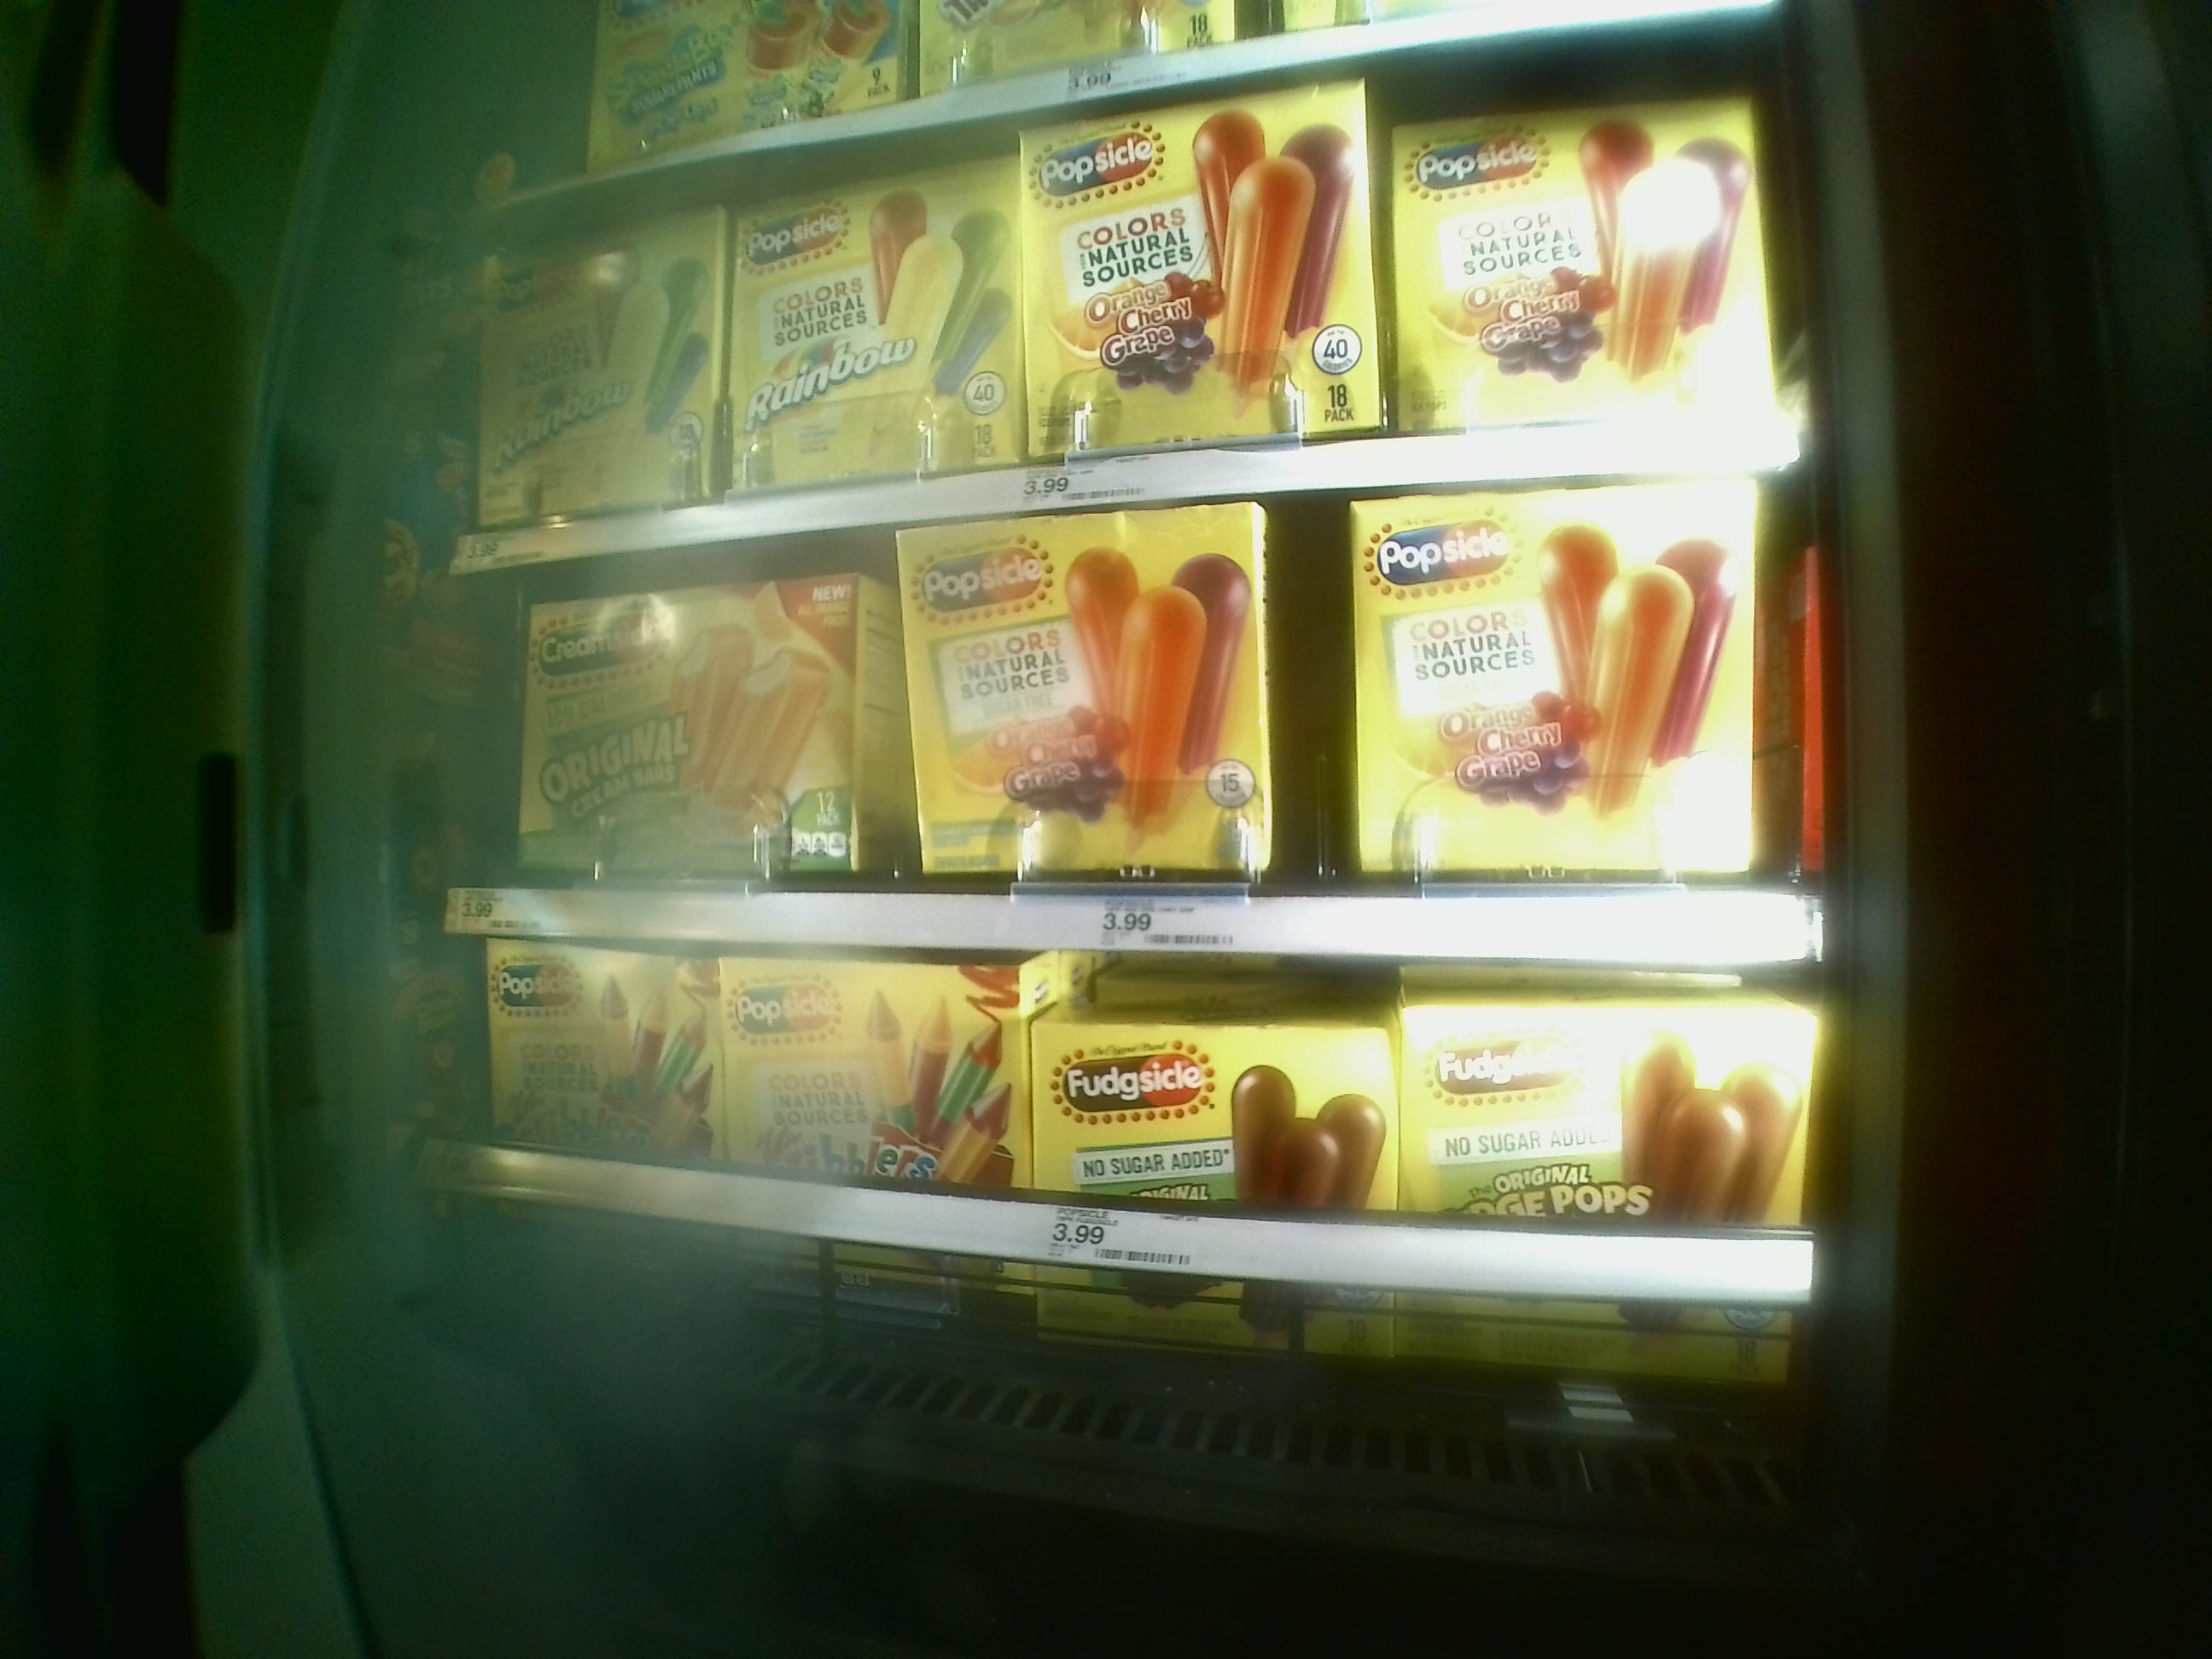shelf: (455, 917, 1832, 1338)
